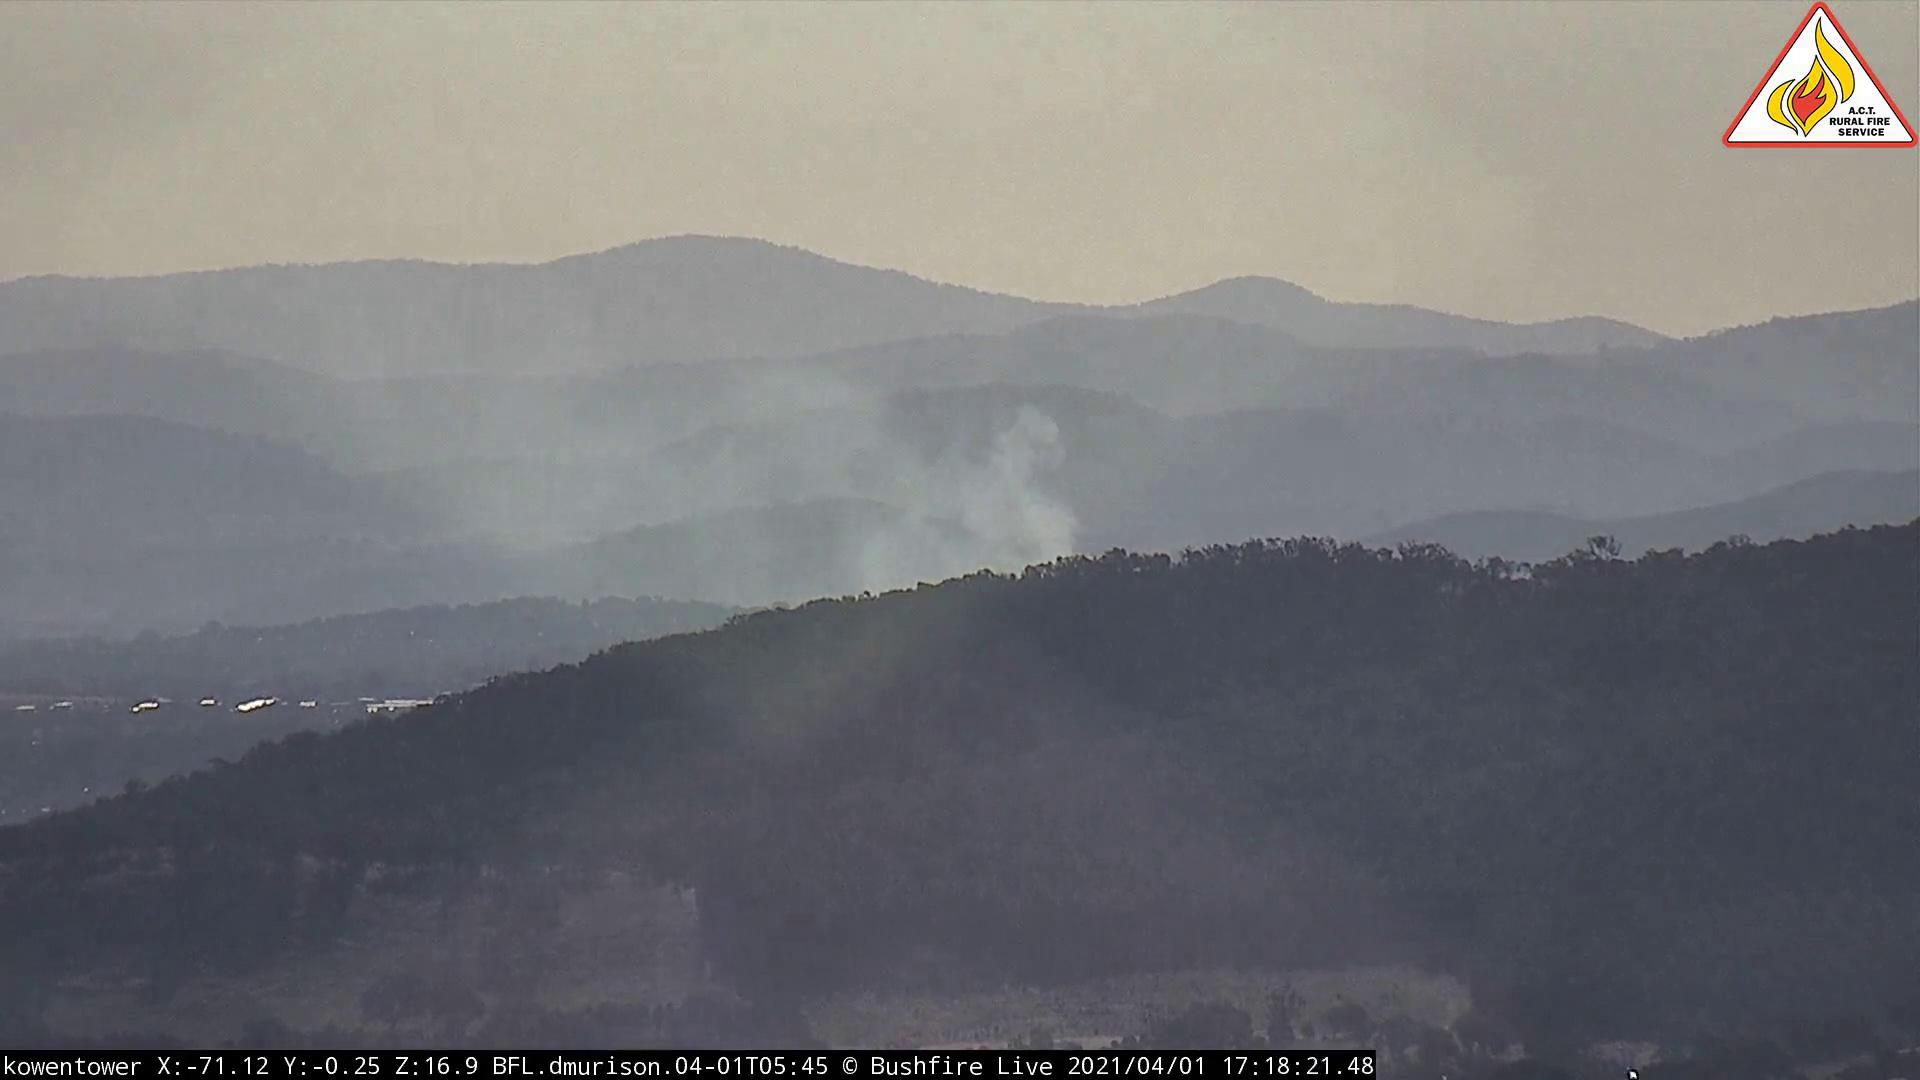Smoke: (410, 314, 1109, 645)
